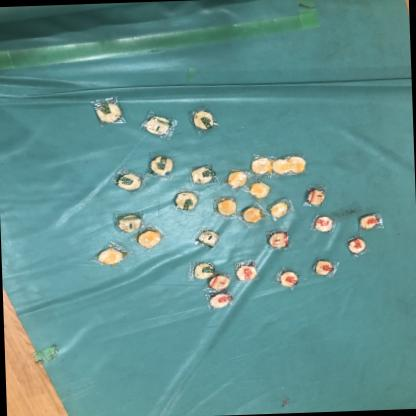green_setoshio: (90, 96, 128, 130), (110, 166, 147, 196), (188, 106, 223, 137), (140, 112, 178, 139), (187, 162, 221, 190), (146, 151, 178, 179), (170, 186, 202, 213), (191, 224, 223, 250), (114, 210, 144, 234), (186, 258, 216, 280)
red_setoshio: (344, 233, 372, 258), (232, 260, 260, 284), (274, 268, 302, 292), (311, 257, 341, 279), (310, 212, 339, 234), (205, 291, 235, 312), (265, 229, 292, 251), (303, 184, 329, 206), (358, 212, 384, 232), (208, 273, 233, 292)
yellow_setoshio: (131, 224, 170, 253), (93, 242, 132, 268), (237, 203, 268, 225), (246, 153, 274, 177), (223, 167, 251, 188), (211, 197, 239, 218), (246, 180, 273, 200), (269, 200, 294, 221), (272, 155, 292, 178), (290, 154, 310, 176)
